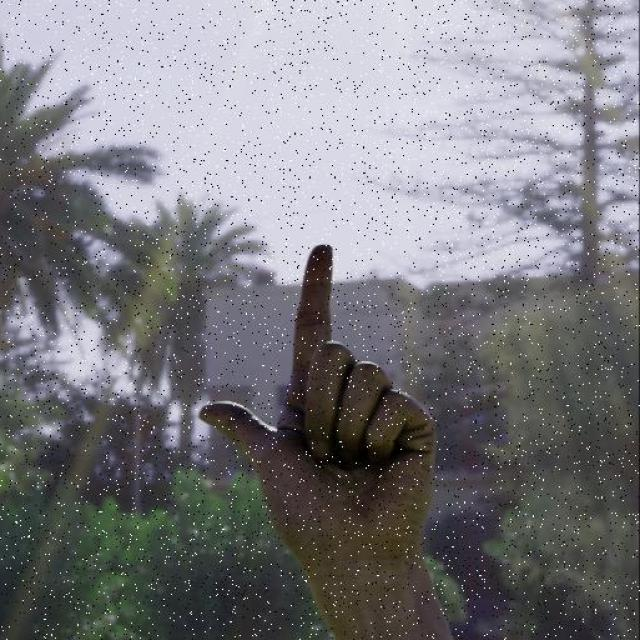L: (196, 242, 440, 568)
